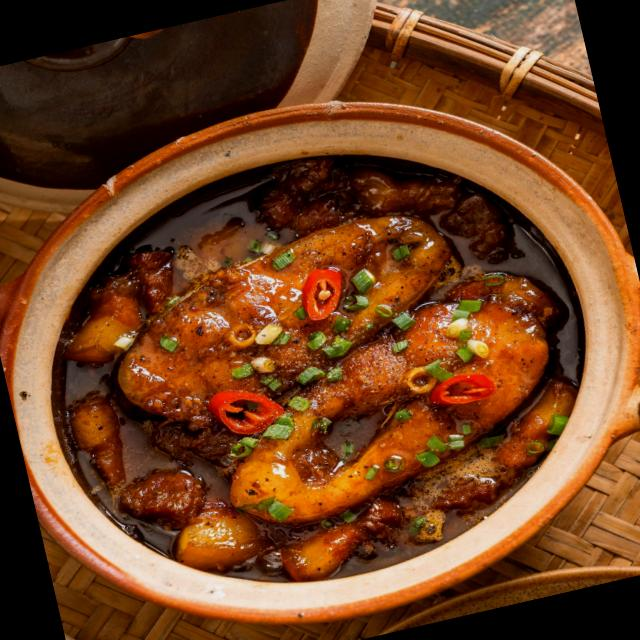ca kho: (66, 156, 576, 582)
ot: (209, 391, 284, 434), (430, 373, 497, 404), (301, 269, 339, 322)
